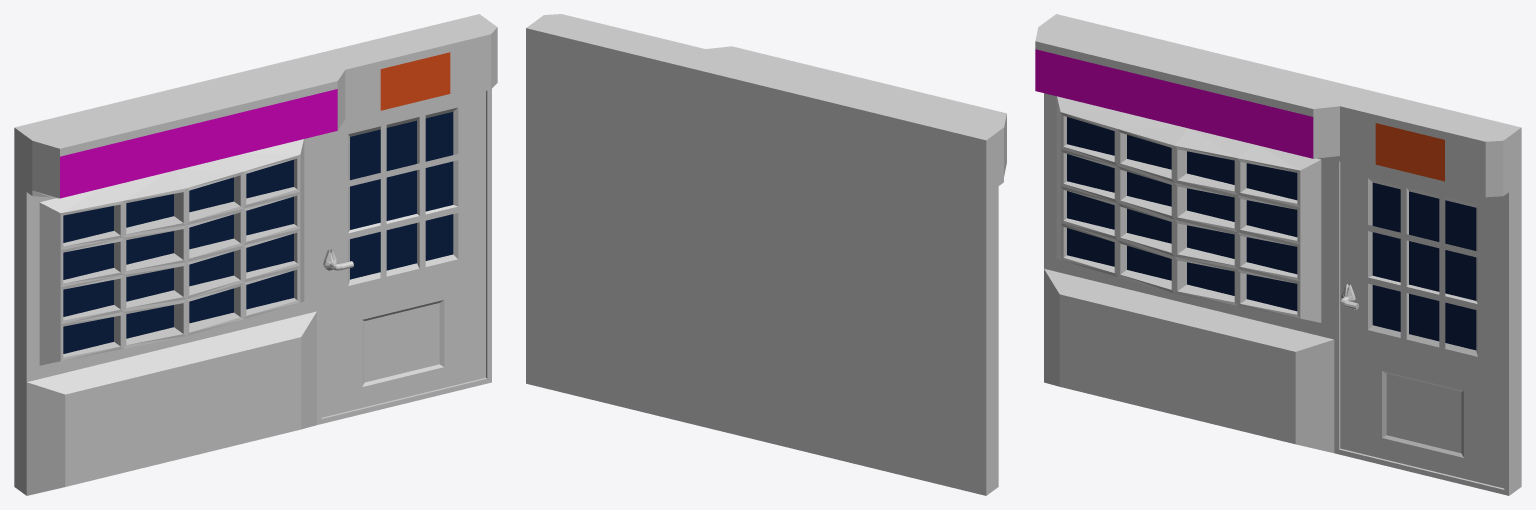
The model's file is FaixadaLuckyCatExport.fbx.
3 renders of one model, left to right at view 1: azimuth 30°, elevation 25°; view 2: azimuth 150°, elevation 25°; view 3: azimuth 330°, elevation 25°, orthographic.
Visible parts, largest first — view 1: Faixada; view 2: Faixada; view 3: Faixada.
Part boxes in pixels (bbox=[...]): Faixada: bbox=[14, 14, 497, 495]; Faixada: bbox=[526, 14, 1006, 495]; Faixada: bbox=[1035, 14, 1521, 495].
Bounding box in the file's own units: 383 × 283 × 47.37.
